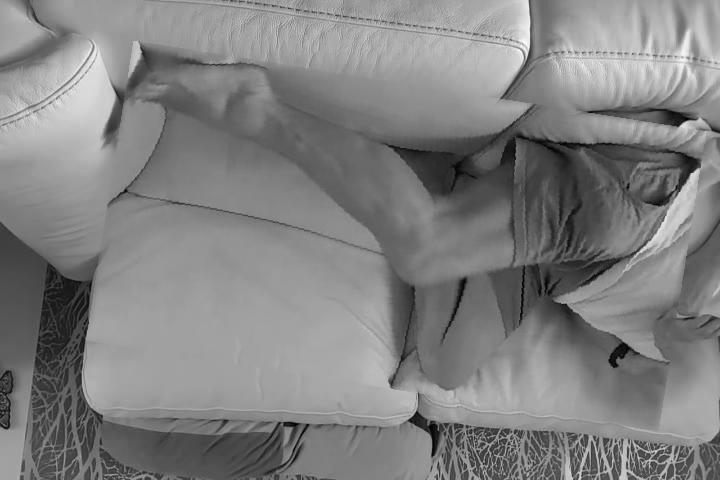lower_body: (97, 64, 697, 410)
